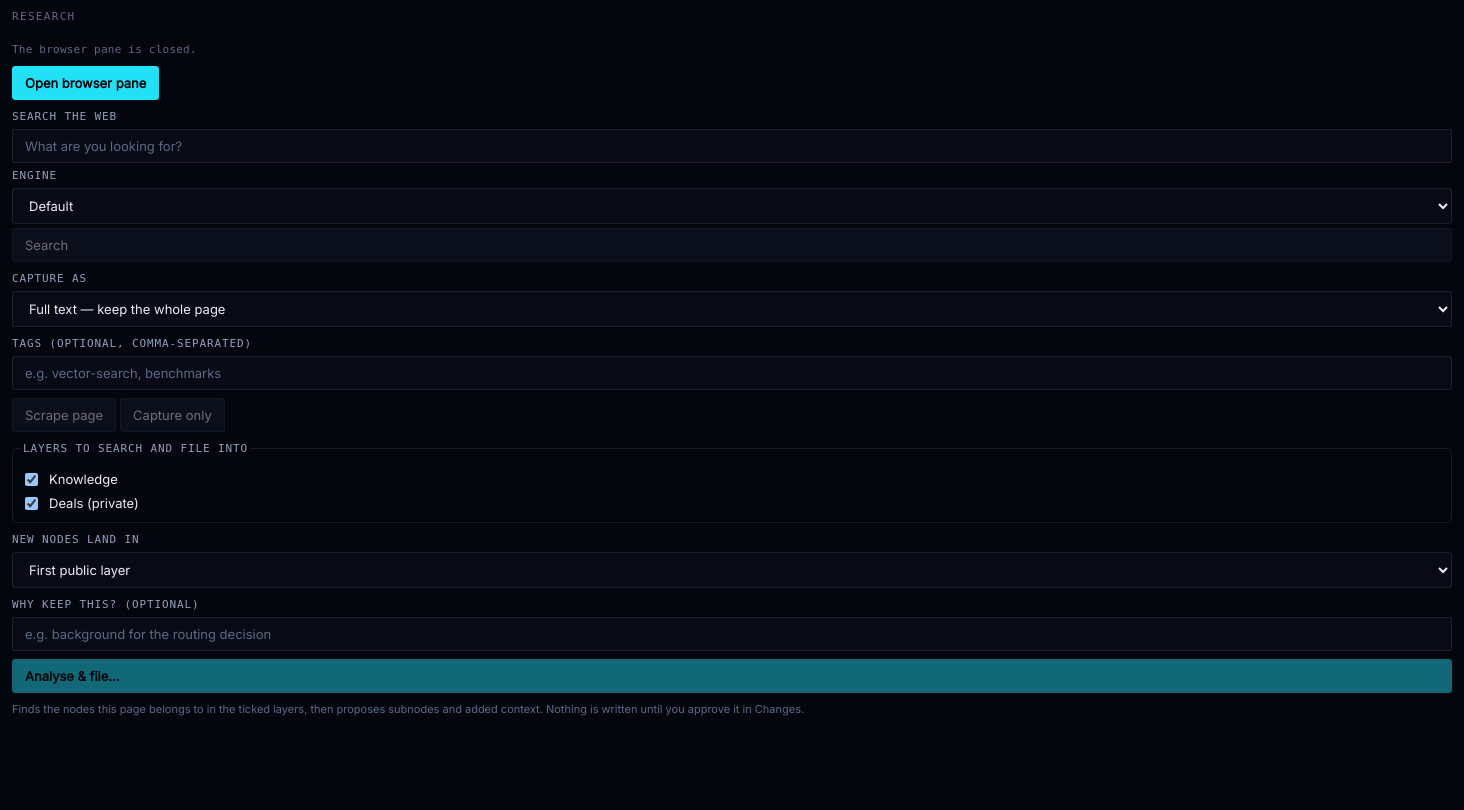
Scenario: BrowserPanel › warns that the embedded pane cannot play H.264 video
This screenshot has width=1464, height=810.
expect the text "The browser pane is closed." is shown: met, box [12,43,197,56]
Click the button "Open browser pane".
click(86, 83)  # box [12,66,159,100]
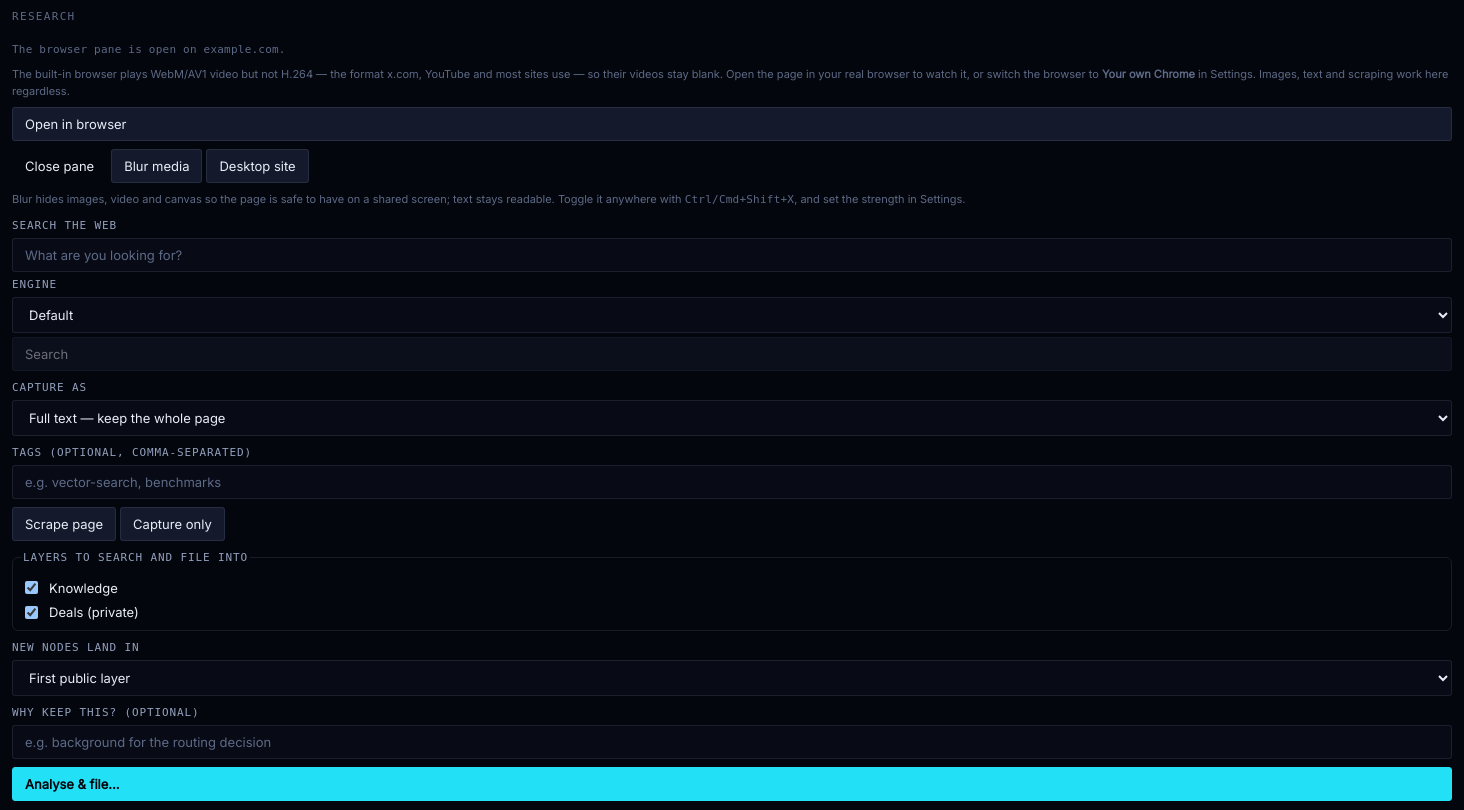
expect the text "not H.264" is shown: met, box [12,67,1099,81]
